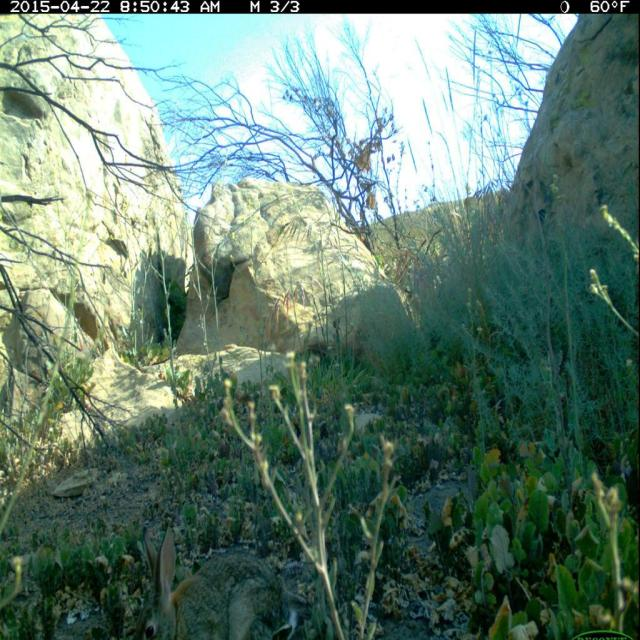rabbit: (133, 515, 299, 640)
